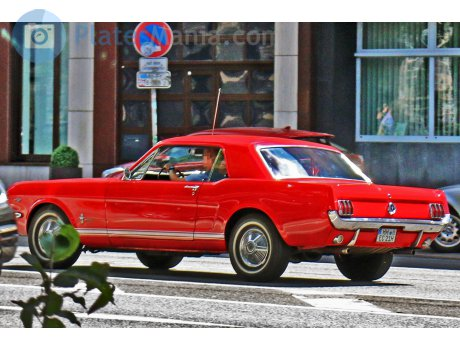License Plates: (380, 228, 394, 237)
